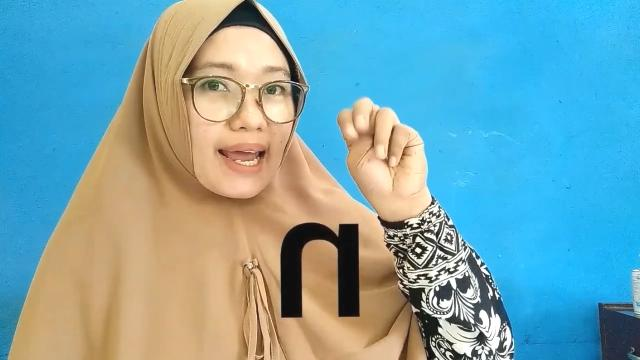N: (338, 96, 428, 196)
